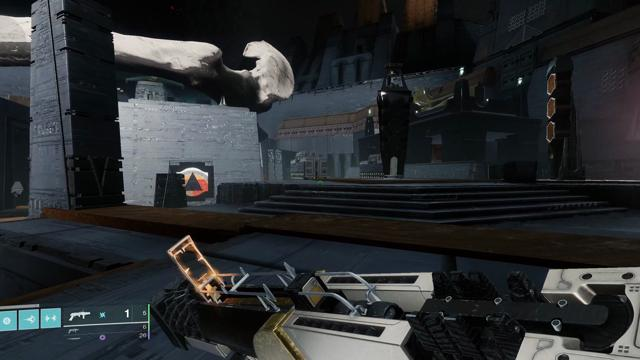pyramid: (176, 167, 209, 196)
